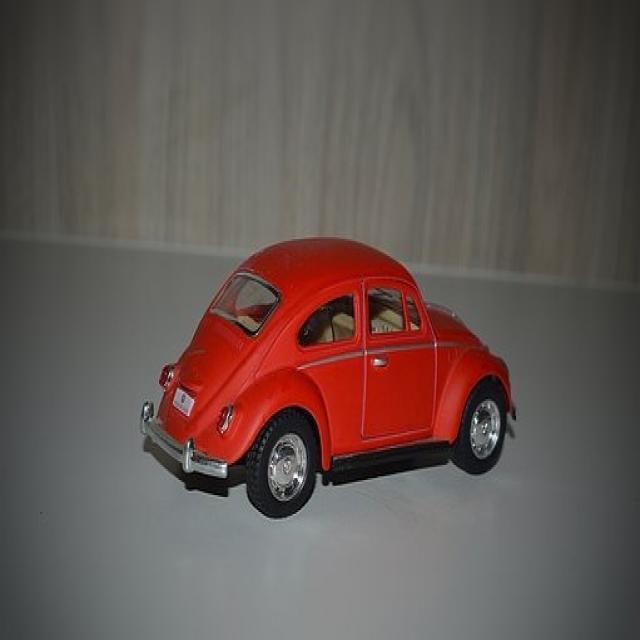cars: (135, 230, 518, 493)
